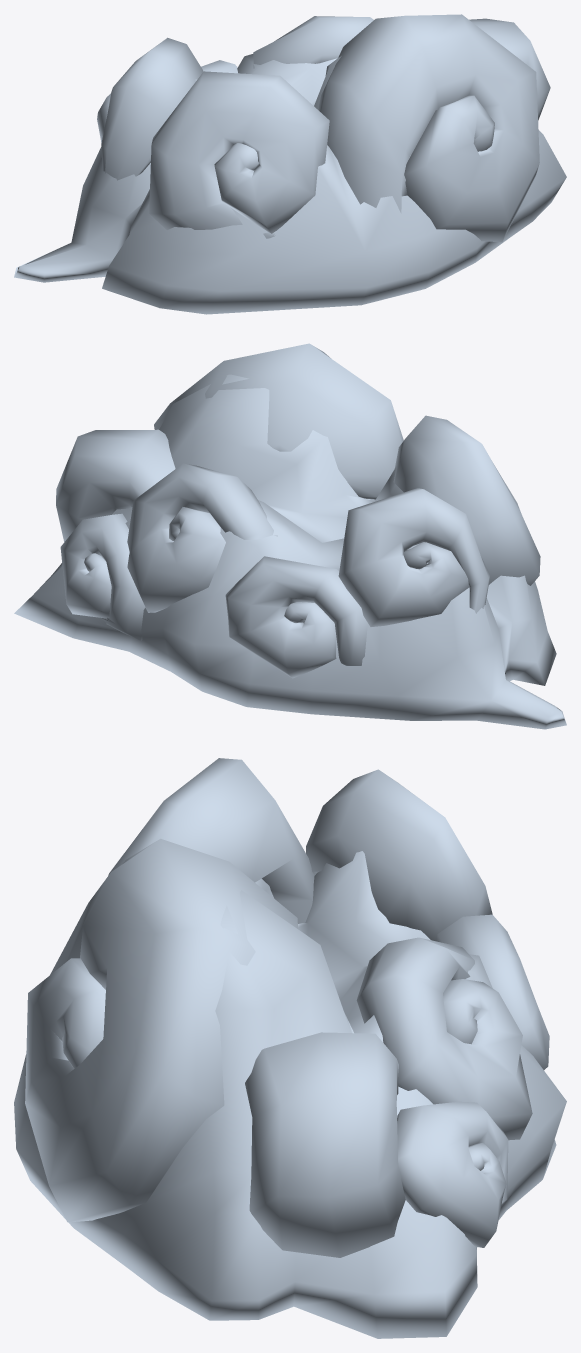
The model's file is cloud_04.fbx.
3 renders of one model, top to bottom at view 1: azimuth 30°, elevation 25°; view 2: azimuth 150°, elevation 25°; view 3: azimuth 270°, elevation 25°, orthographic. The views are drawn at different scales.
Parts seen in each view (by area): view 1: cloud_04; view 2: cloud_04; view 3: cloud_04.
Boxes of the visible parts, x1,y1,x2,y2 form: cloud_04: (14, 14, 566, 314); cloud_04: (14, 343, 566, 729); cloud_04: (14, 758, 566, 1338).
Size of the model in its own units: 1723 by 768 by 1065.
